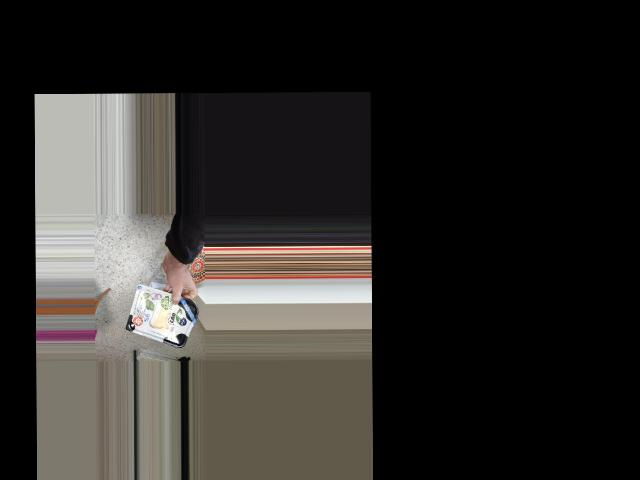cheese: (130, 294, 194, 342)
